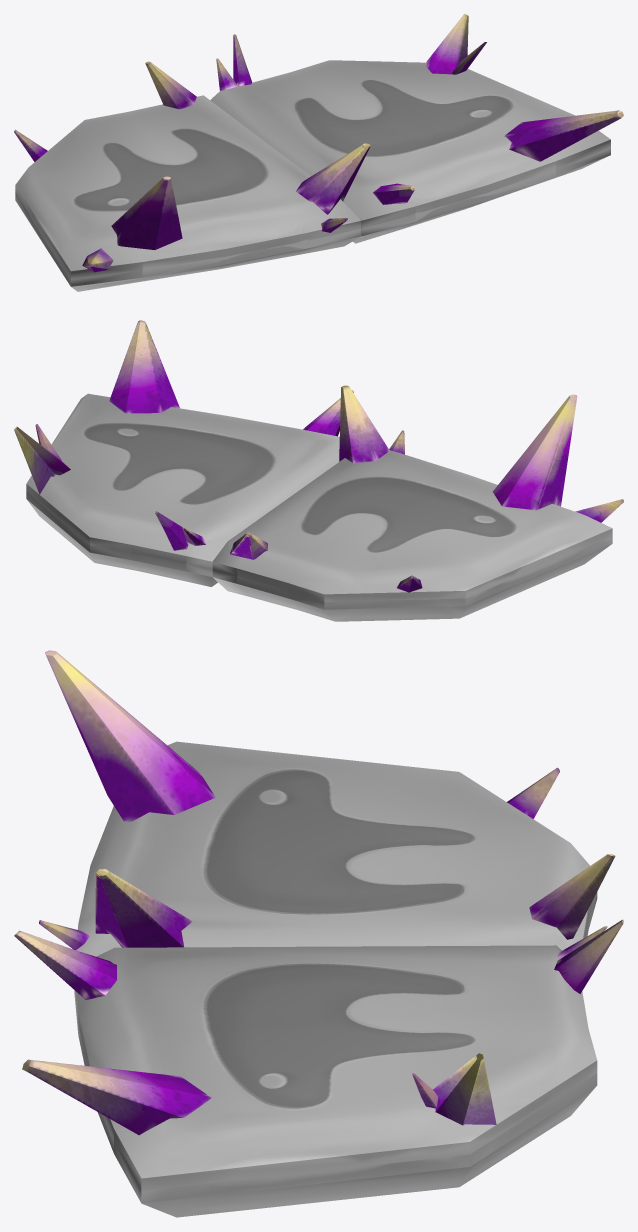
File: MDL_CorruptedTile_12SRing.fbx
3 views of the same model, one above another, from view 1: azimuth 30°, elevation 25°; view 2: azimuth 150°, elevation 25°; view 3: azimuth 270°, elevation 25° (orthographic). The views are drawn at different scales.
Parts seen in each view (by area): view 1: Right_Wing_TileCorrupted, Left_Wing_TileCorrupted; view 2: Right_Wing_TileCorrupted, Left_Wing_TileCorrupted; view 3: Left_Wing_TileCorrupted, Right_Wing_TileCorrupted.
Part boxes in pixels (x1,y1,x2,y2): Right_Wing_TileCorrupted: [14, 61, 370, 291]; Left_Wing_TileCorrupted: [210, 14, 623, 243]; Right_Wing_TileCorrupted: [212, 385, 623, 621]; Left_Wing_TileCorrupted: [14, 320, 353, 586]; Left_Wing_TileCorrupted: [14, 919, 623, 1217]; Right_Wing_TileCorrupted: [39, 650, 615, 956].
Bounding box in the file's own units: 261 × 60.17 × 159.
